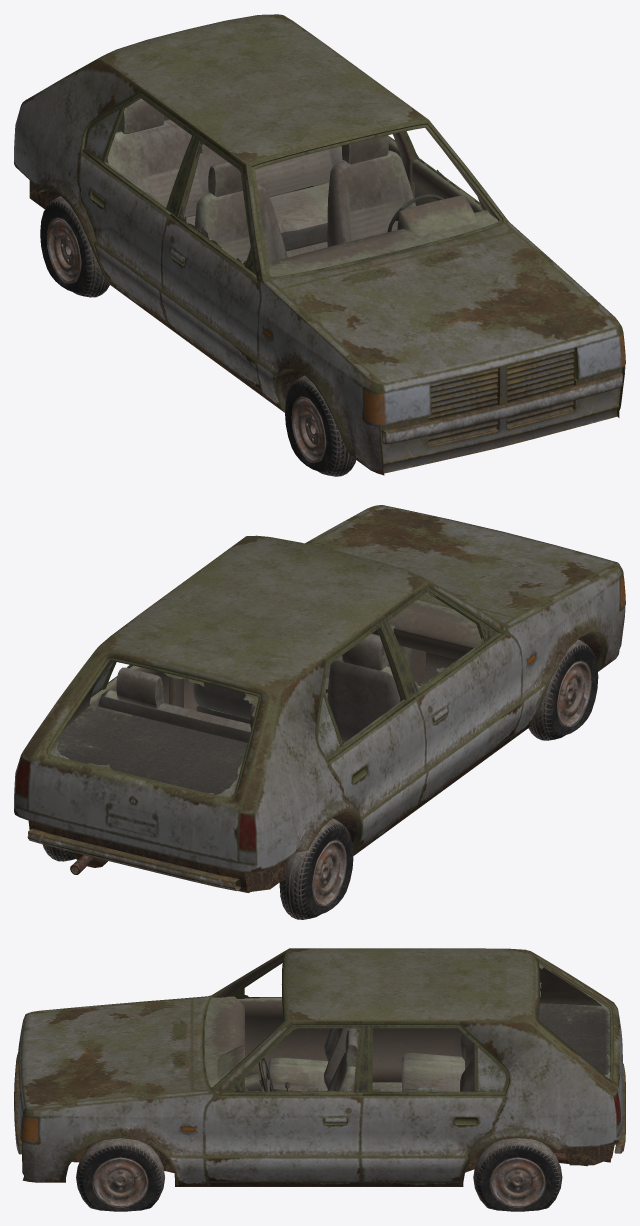
File: SM_MTR_AbandonedCar_01.fbx
The picture shows the model from 3 angles, top to bottom: view 1: azimuth 30°, elevation 25°; view 2: azimuth 150°, elevation 25°; view 3: azimuth 270°, elevation 25°; orthographic projection. The views are drawn at different scales.
Visible parts, largest first — view 1: SM_MTR_AbandonedCar_01.mo; view 2: SM_MTR_AbandonedCar_01.mo; view 3: SM_MTR_AbandonedCar_01.mo.
Boxes of the visible parts, left/top/right/bottom form: SM_MTR_AbandonedCar_01.mo: left=14, top=14, right=625, bottom=476; SM_MTR_AbandonedCar_01.mo: left=14, top=505, right=625, bottom=919; SM_MTR_AbandonedCar_01.mo: left=14, top=948, right=625, bottom=1211.
Bounding box in the file's own units: 211 × 161 × 500.
